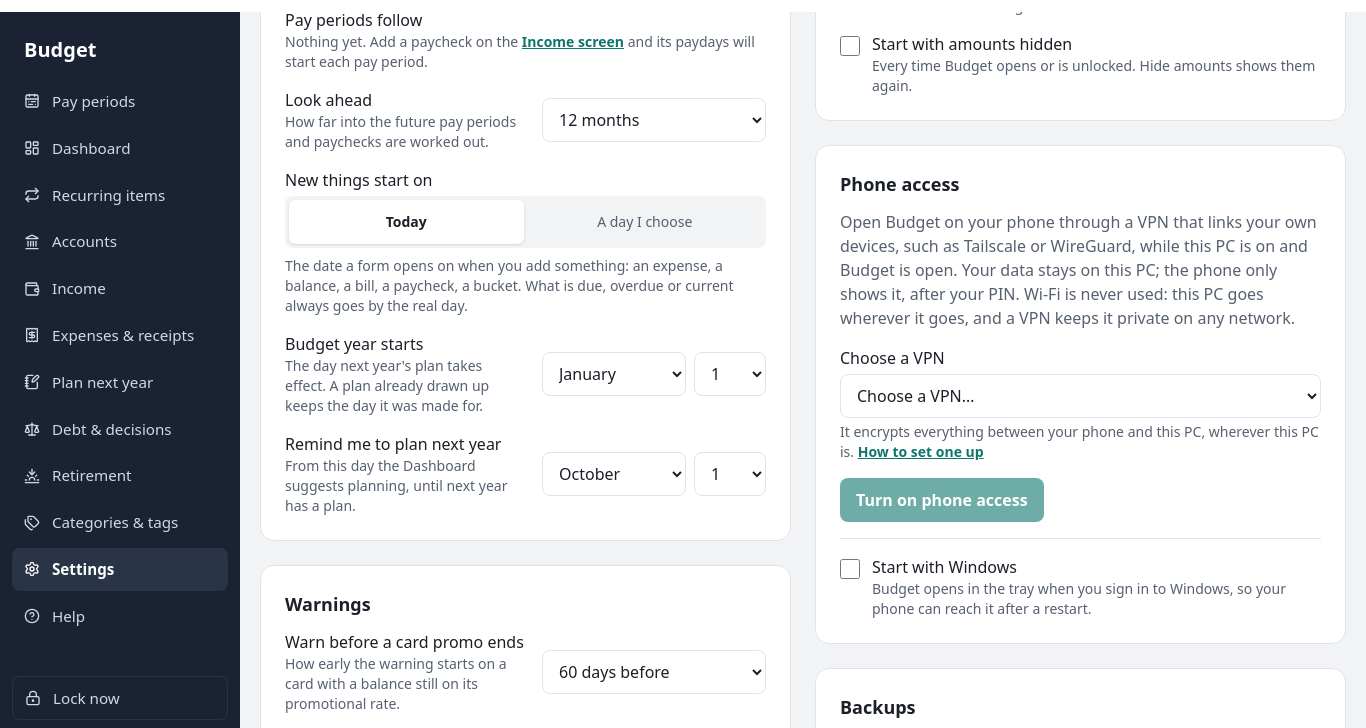
Scenario: phone access › lists this PC's VPNs and turns phone access on through one
(page scrolled)
Select "Tailscale · 100.101.102.103" in the dropdown labelled "Choose a VPN" at (1080, 396), box [840, 374, 1321, 418]
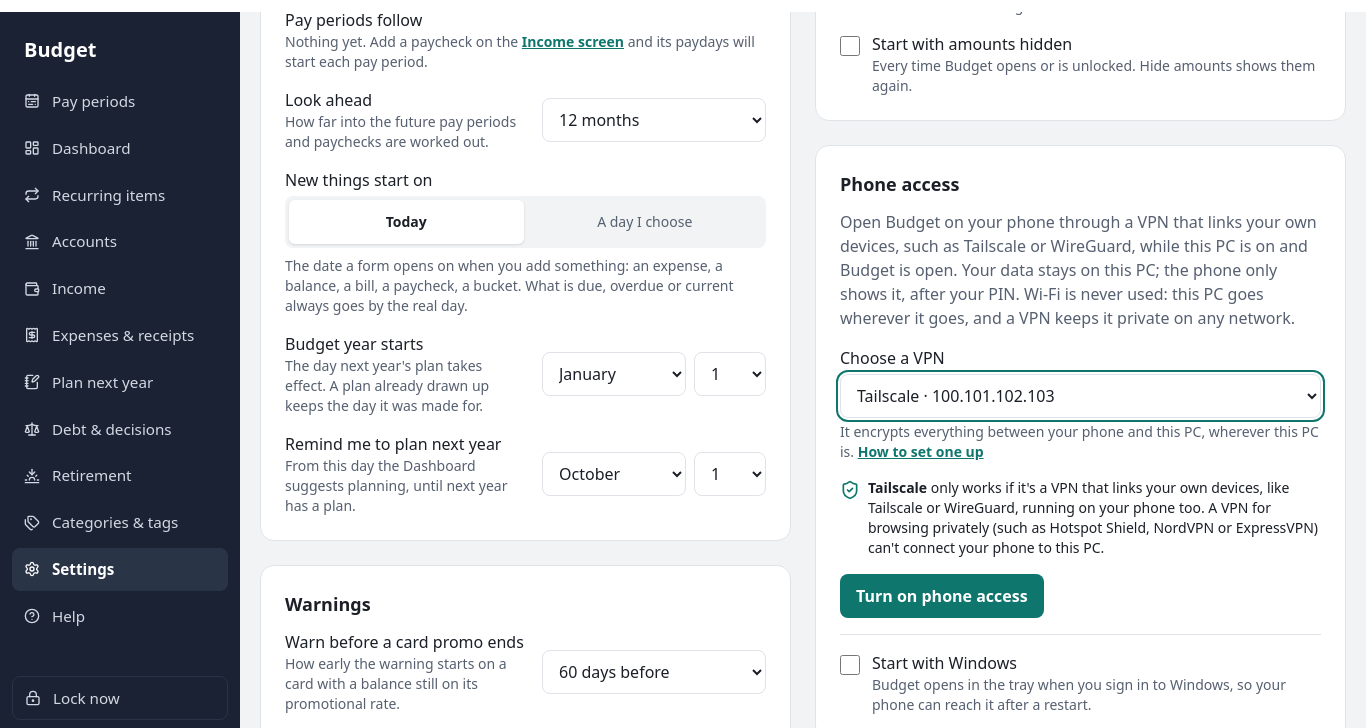
Now the text "only works if it.s a VPN that links your own devices" is shown, box [868, 478, 1318, 557]
Click the button "Turn on phone access".
click(942, 596)  # box [840, 574, 1044, 618]
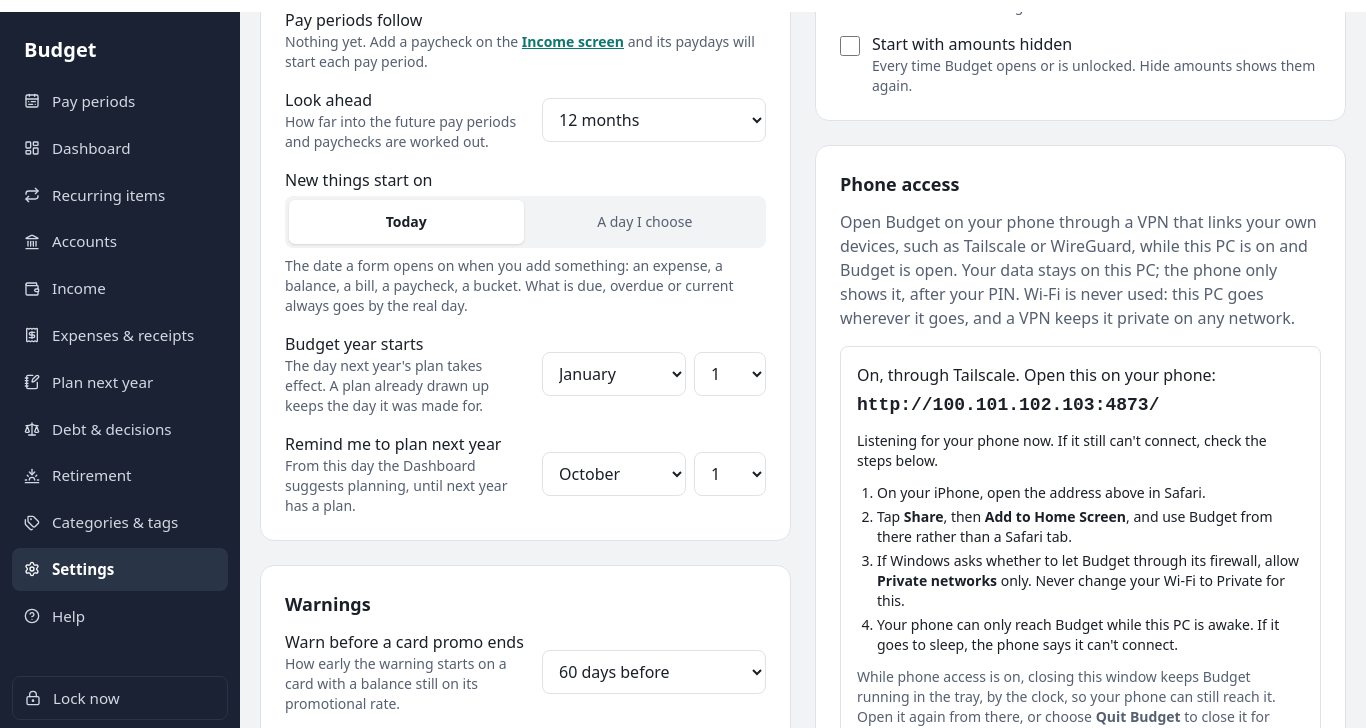
Now the text "http://100.101.102.103:4873/" is shown, box [857, 395, 1160, 415]
Now the text "On, through Tailscale. Open this on your phone:" is shown, box [857, 364, 1216, 386]
Now the message shows "Listening for your phone now", box [857, 431, 1267, 470]
